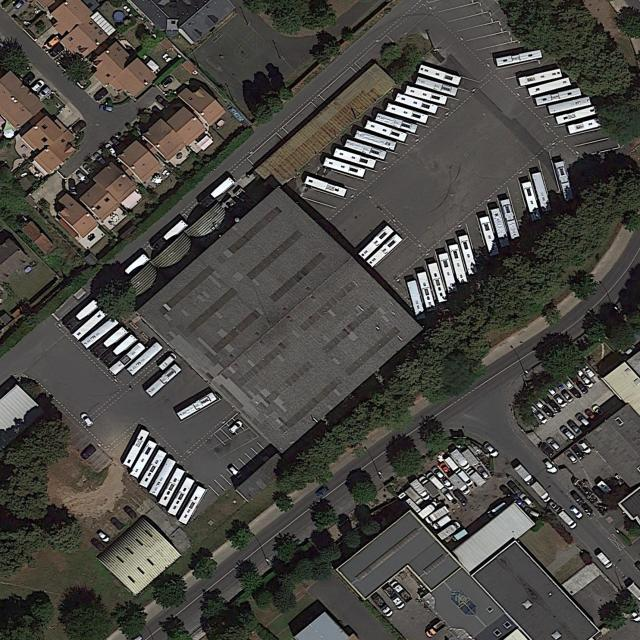large-vehicle: (366, 233, 404, 268), (358, 225, 395, 260), (151, 219, 189, 253), (81, 316, 119, 350), (126, 342, 164, 376), (176, 391, 218, 421), (109, 342, 146, 376), (91, 326, 129, 359), (145, 364, 182, 397), (100, 334, 138, 366), (72, 308, 108, 341), (122, 429, 151, 469), (139, 449, 168, 489), (167, 477, 196, 517), (129, 440, 158, 479), (178, 486, 207, 525), (63, 300, 99, 331), (149, 458, 177, 497), (158, 468, 186, 507), (201, 177, 235, 209), (364, 119, 408, 143), (304, 175, 348, 198), (395, 92, 439, 115), (386, 102, 429, 125), (323, 157, 367, 179), (333, 147, 377, 169), (345, 139, 388, 161), (376, 112, 419, 134), (419, 64, 462, 86), (355, 129, 397, 151), (416, 76, 459, 97), (500, 198, 521, 240), (405, 85, 449, 105), (479, 216, 500, 257), (555, 105, 598, 125), (535, 88, 582, 106), (496, 49, 543, 67), (458, 235, 479, 275), (528, 77, 572, 96), (532, 172, 552, 213), (555, 160, 575, 201), (428, 262, 448, 303), (548, 96, 593, 114), (518, 69, 563, 87), (522, 181, 542, 221), (491, 208, 511, 248), (449, 243, 468, 285), (439, 252, 458, 294), (417, 271, 436, 313), (408, 280, 427, 320), (567, 116, 605, 134), (124, 253, 150, 276)
small-vehicle: (382, 584, 406, 610), (448, 472, 472, 496), (372, 594, 395, 618), (390, 580, 413, 604), (436, 520, 462, 541), (409, 478, 432, 501), (418, 475, 440, 499), (424, 506, 451, 525), (449, 448, 471, 471), (513, 464, 536, 486), (465, 467, 487, 489), (531, 481, 552, 504), (556, 509, 578, 530), (424, 619, 447, 639), (417, 501, 440, 521), (486, 501, 510, 519), (425, 471, 445, 492), (158, 352, 178, 371), (545, 435, 565, 454), (404, 487, 424, 506), (431, 514, 453, 531), (455, 468, 474, 487), (595, 551, 614, 569), (565, 417, 583, 435), (482, 441, 500, 459), (226, 463, 244, 480), (121, 504, 139, 521), (79, 444, 97, 461), (542, 457, 559, 475), (569, 489, 586, 507), (507, 479, 524, 497), (452, 488, 469, 506), (570, 443, 586, 461), (574, 412, 592, 428), (559, 425, 577, 441), (48, 43, 65, 59), (90, 537, 107, 553), (440, 476, 456, 493), (577, 438, 593, 454), (568, 504, 584, 520), (499, 483, 515, 499), (581, 363, 596, 380), (540, 404, 557, 419), (43, 36, 60, 51), (440, 487, 455, 504), (523, 506, 541, 520), (450, 529, 468, 543), (564, 449, 579, 465), (109, 516, 125, 531), (79, 412, 94, 428), (72, 119, 88, 134), (540, 443, 556, 458), (476, 465, 491, 481), (155, 95, 172, 109), (580, 374, 595, 389), (575, 380, 590, 395), (568, 385, 583, 400), (560, 388, 575, 403), (553, 393, 568, 408), (534, 410, 549, 425), (96, 529, 111, 544), (21, 72, 36, 87), (228, 420, 244, 434), (93, 88, 109, 102), (75, 170, 91, 184), (110, 137, 126, 151), (314, 485, 329, 499), (438, 461, 452, 476), (549, 399, 563, 413), (591, 404, 605, 418), (431, 465, 445, 479), (161, 75, 176, 88), (92, 152, 107, 165), (547, 500, 562, 513), (519, 493, 534, 506), (584, 407, 597, 421), (31, 79, 45, 92), (104, 143, 117, 157), (581, 503, 594, 517), (82, 162, 95, 175), (38, 86, 51, 98), (68, 179, 77, 195), (151, 106, 164, 117), (98, 103, 113, 112), (133, 122, 145, 132)
